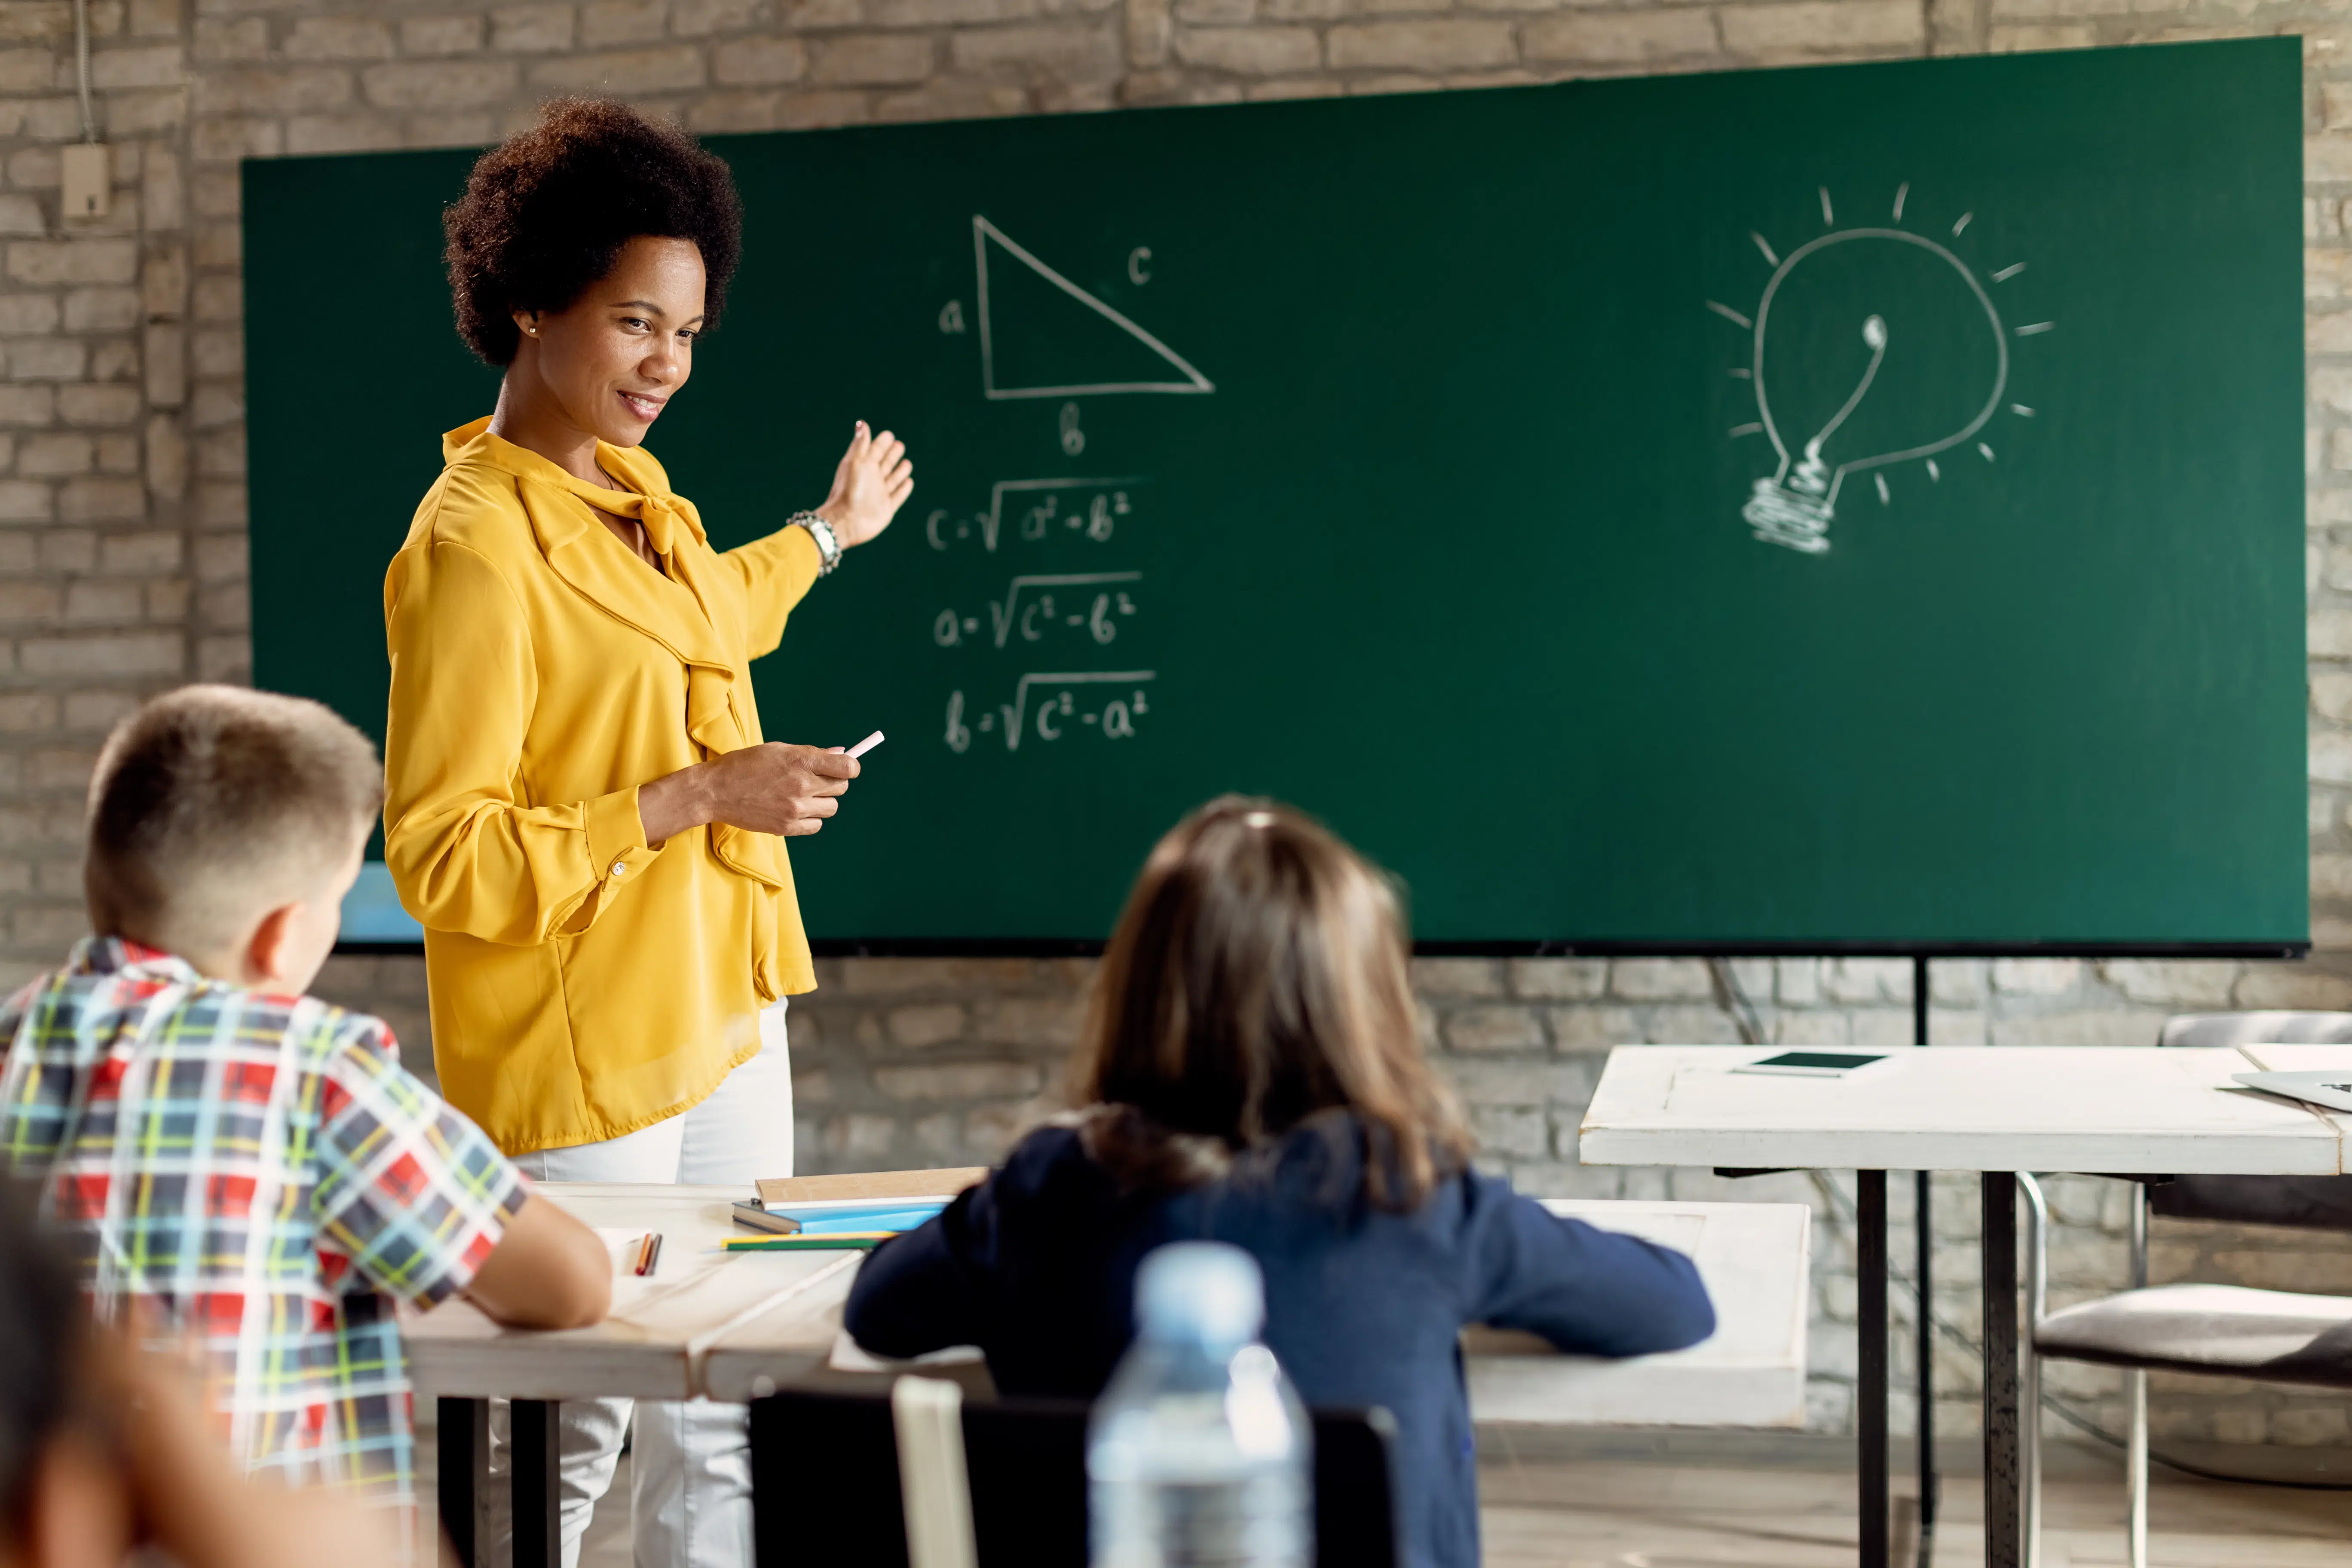pointing_gesture: (821, 408, 941, 549)
